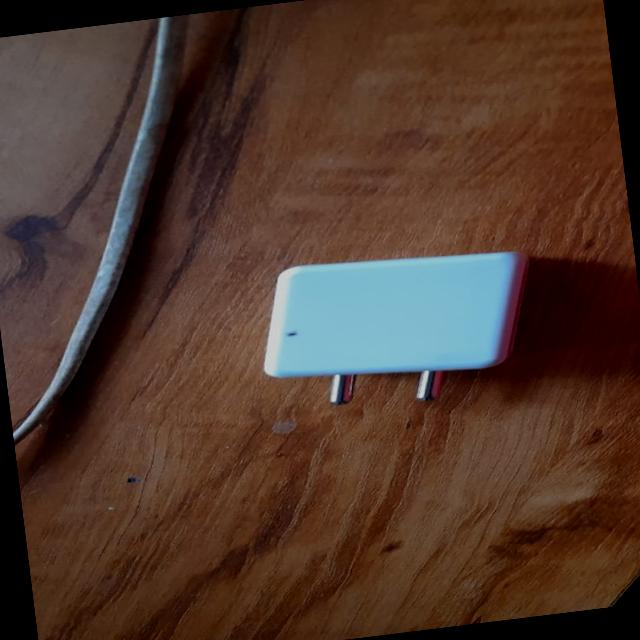Charger - Recyclable: (248, 236, 544, 420)
